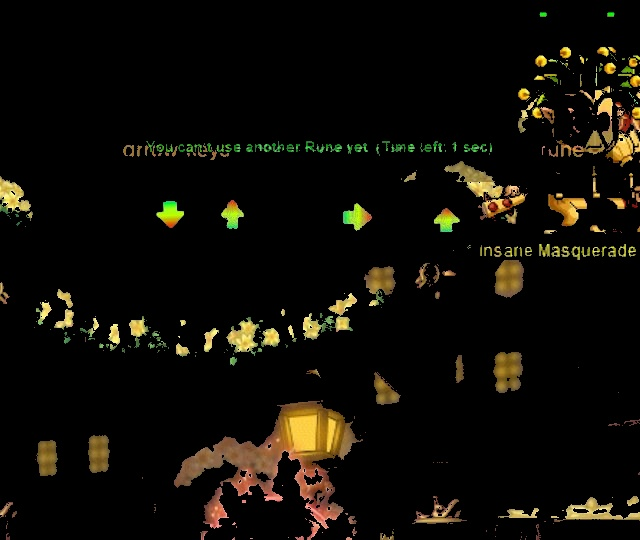down: (148, 193, 193, 237)
right: (336, 197, 383, 243)
up: (424, 200, 468, 243), (215, 192, 255, 237)
